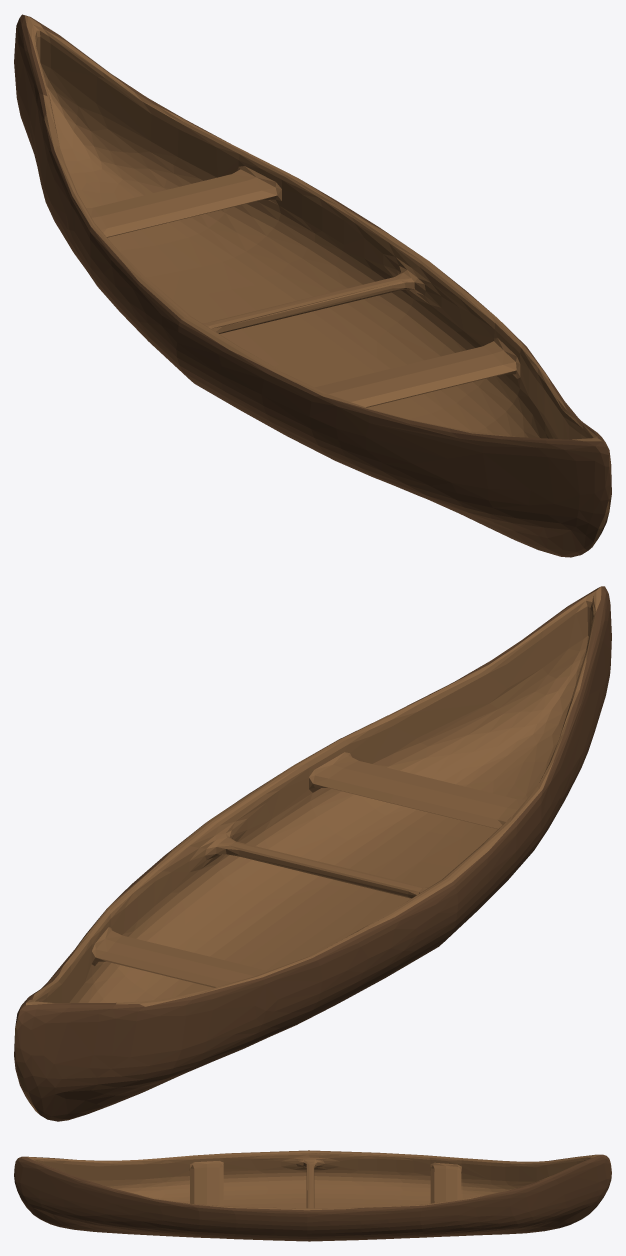
Rendered from canoe.glb.
The picture shows the model from 3 angles, top to bottom: view 1: azimuth 30°, elevation 25°; view 2: azimuth 150°, elevation 25°; view 3: azimuth 270°, elevation 25°; orthographic projection. The views are drawn at different scales.
Visible parts, largest first — view 1: Canoe; view 2: Canoe; view 3: Canoe.
Boxes of the visible parts, left/top/right/bottom form: Canoe: left=14, top=14, right=611, bottom=557; Canoe: left=14, top=586, right=611, bottom=1121; Canoe: left=14, top=1150, right=611, bottom=1241.
Size of the model in its own units: 0.9211 by 0.5761 by 3.7.
